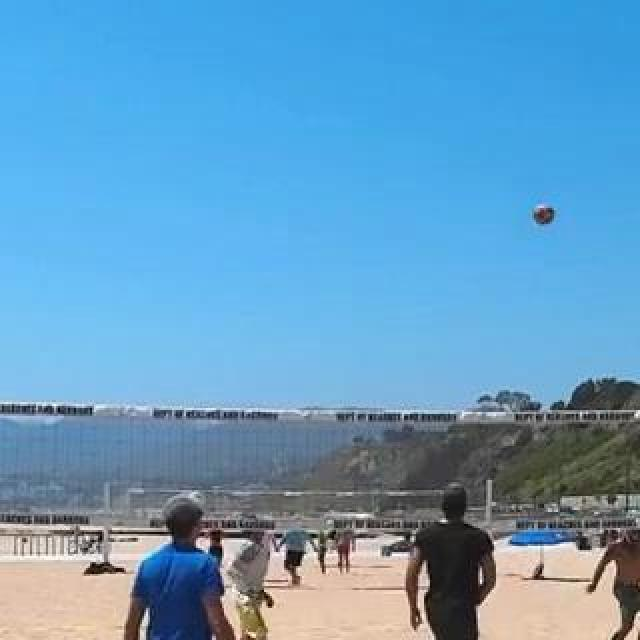volleyball: (533, 203, 555, 225)
